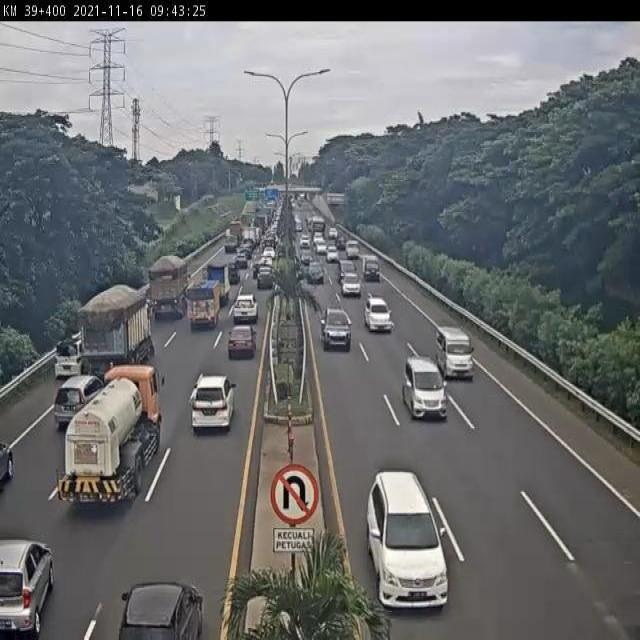car: (361, 468, 456, 613), (0, 534, 68, 640), (114, 582, 212, 640), (191, 366, 241, 438), (52, 366, 105, 431), (400, 358, 449, 426), (438, 320, 477, 388), (320, 304, 355, 353), (225, 321, 261, 363), (53, 336, 86, 381), (0, 433, 19, 507), (361, 296, 396, 336), (224, 294, 266, 326), (253, 262, 278, 294), (303, 258, 330, 286), (339, 271, 363, 300), (336, 257, 359, 284)
small truck: (185, 273, 228, 335), (205, 261, 235, 311), (359, 253, 385, 283)
truck-m-: (53, 362, 173, 518), (76, 282, 159, 378), (142, 255, 195, 322)
